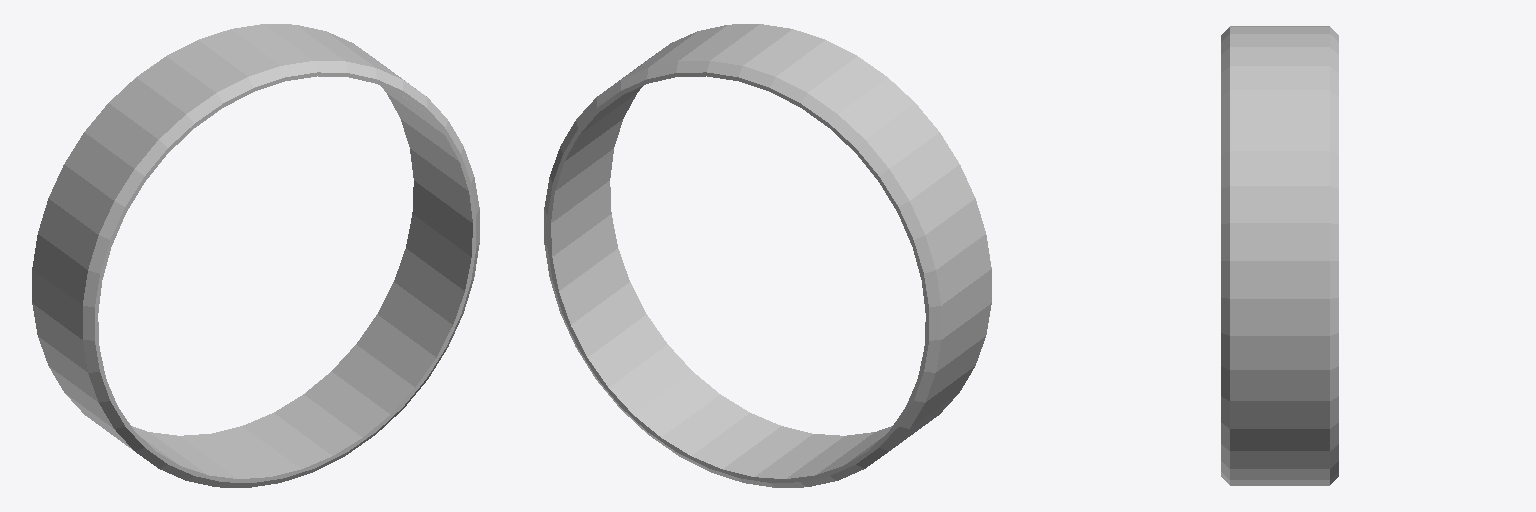
Rendered from processed_ring_big.obj.
3 views of the same model, side by side, from view 1: azimuth 30°, elevation 25°; view 2: azimuth 150°, elevation 25°; view 3: azimuth 270°, elevation 25° (orthographic).
Parts seen in each view (by area): view 1: ring_big; view 2: ring_big; view 3: ring_big.
Boxes of the visible parts, x1=… form: ring_big: x1=32, y1=24, x2=479, y2=487; ring_big: x1=544, y1=24, x2=991, y2=487; ring_big: x1=1221, y1=26, x2=1338, y2=485.
Size of the model in its own units: 0.0889 by 0.0892 by 0.023.